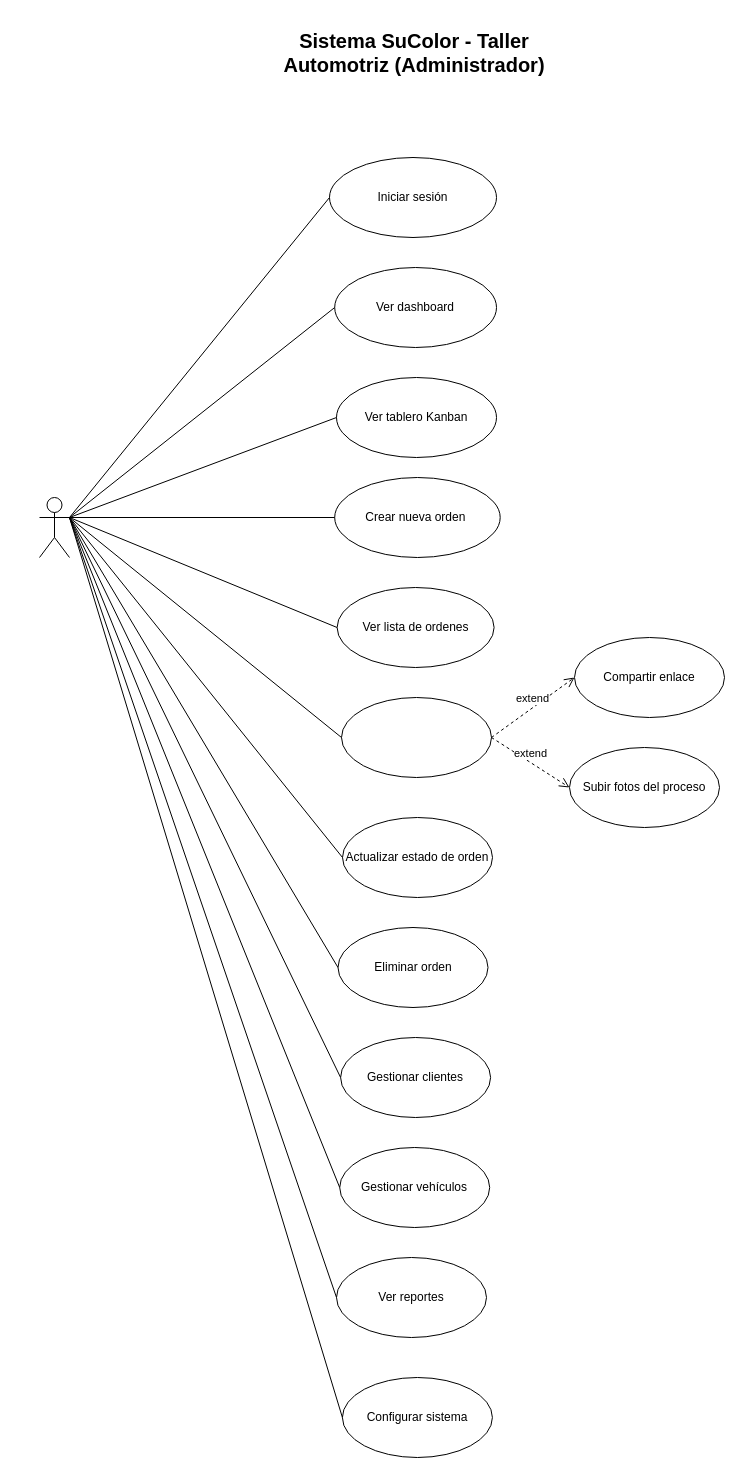
Image size: 742x1475. Some labels were removed from this diagram. The centre of each missing label's shape, as x and y in pixels:
Administrador: (x=54, y=527)
Ver detalle de orden: (x=416, y=737)
